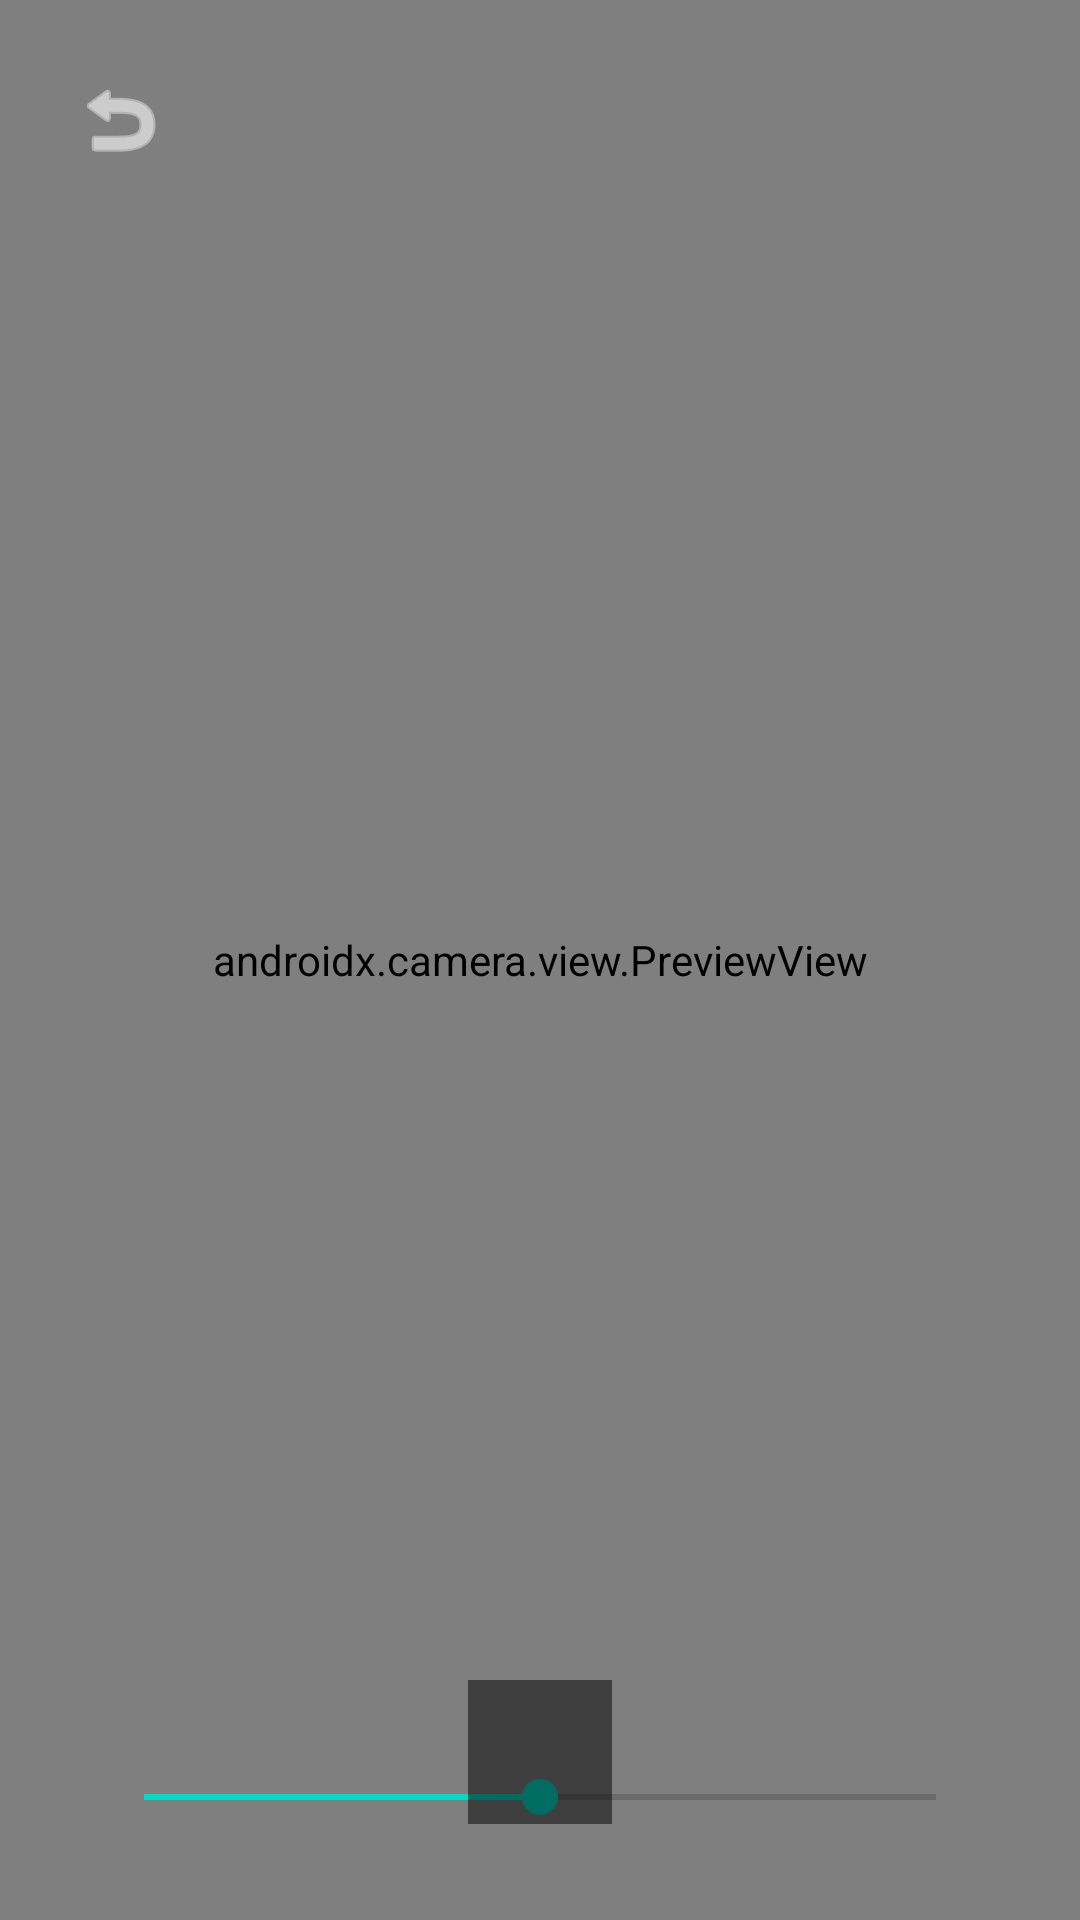

Where icons sit on this 1080px×1920px app screen, as [x1,y1,x2,y2]:
revert: [87,90,156,152]
